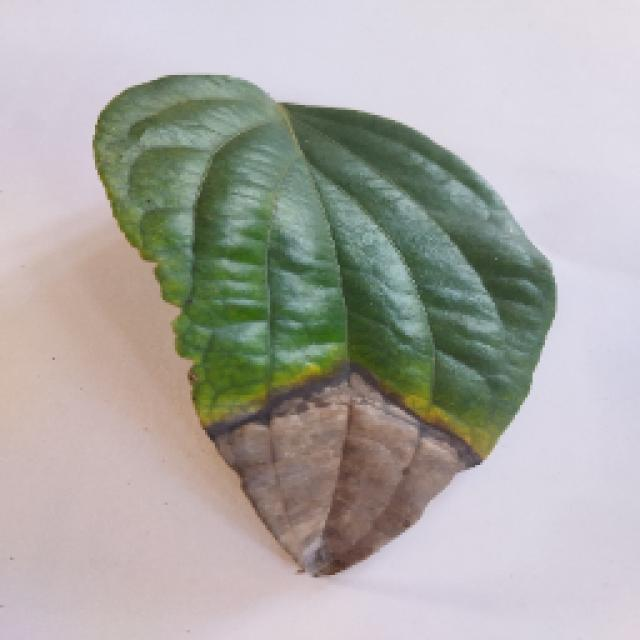footrot: (88, 72, 552, 578)
